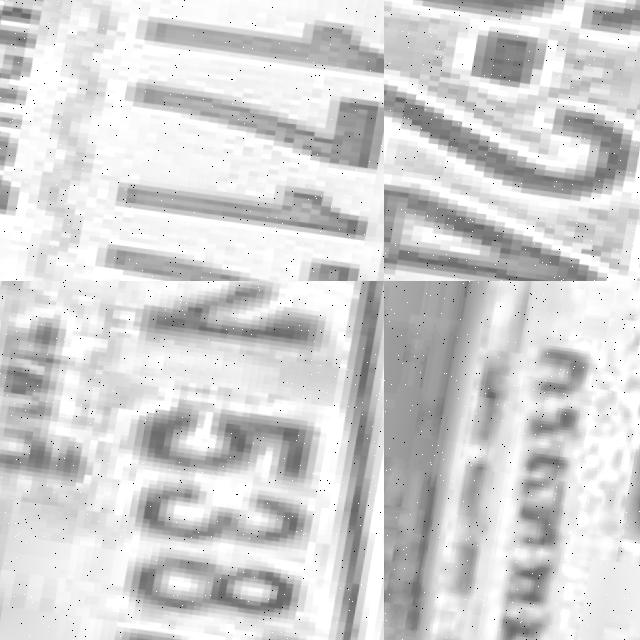license-plate: (0, 281, 384, 640), (0, 0, 384, 281), (415, 281, 640, 640), (384, 0, 640, 281)
